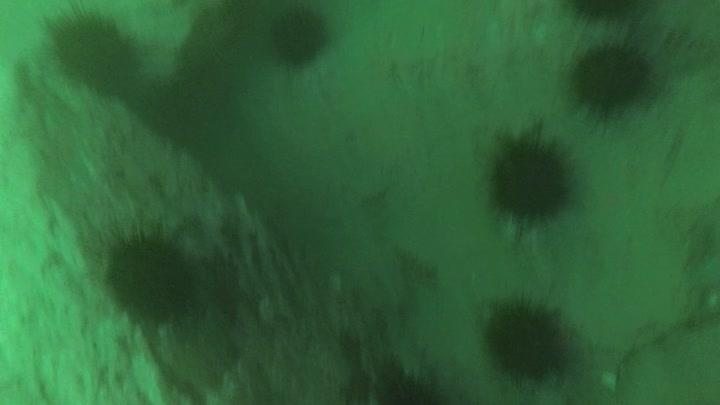echinus: (480, 123, 580, 234), (100, 222, 201, 326), (43, 5, 143, 96), (478, 291, 575, 384), (567, 38, 656, 117), (367, 355, 456, 405), (266, 4, 333, 68), (561, 1, 651, 29)
